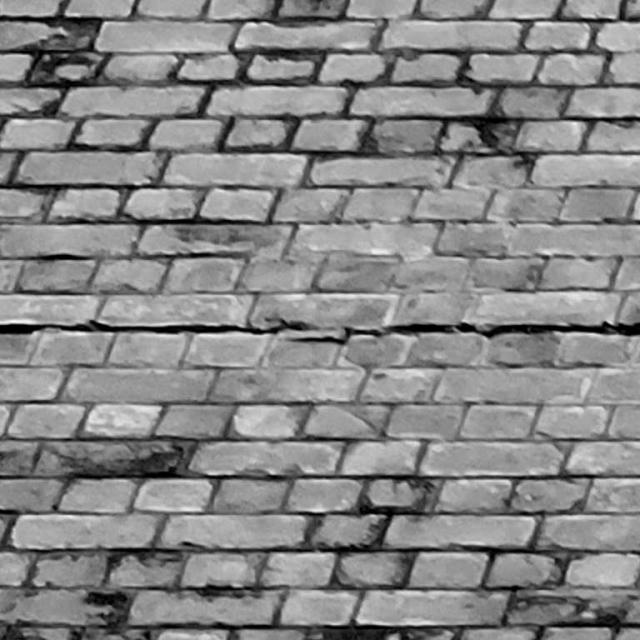crack: (1, 319, 640, 344)
